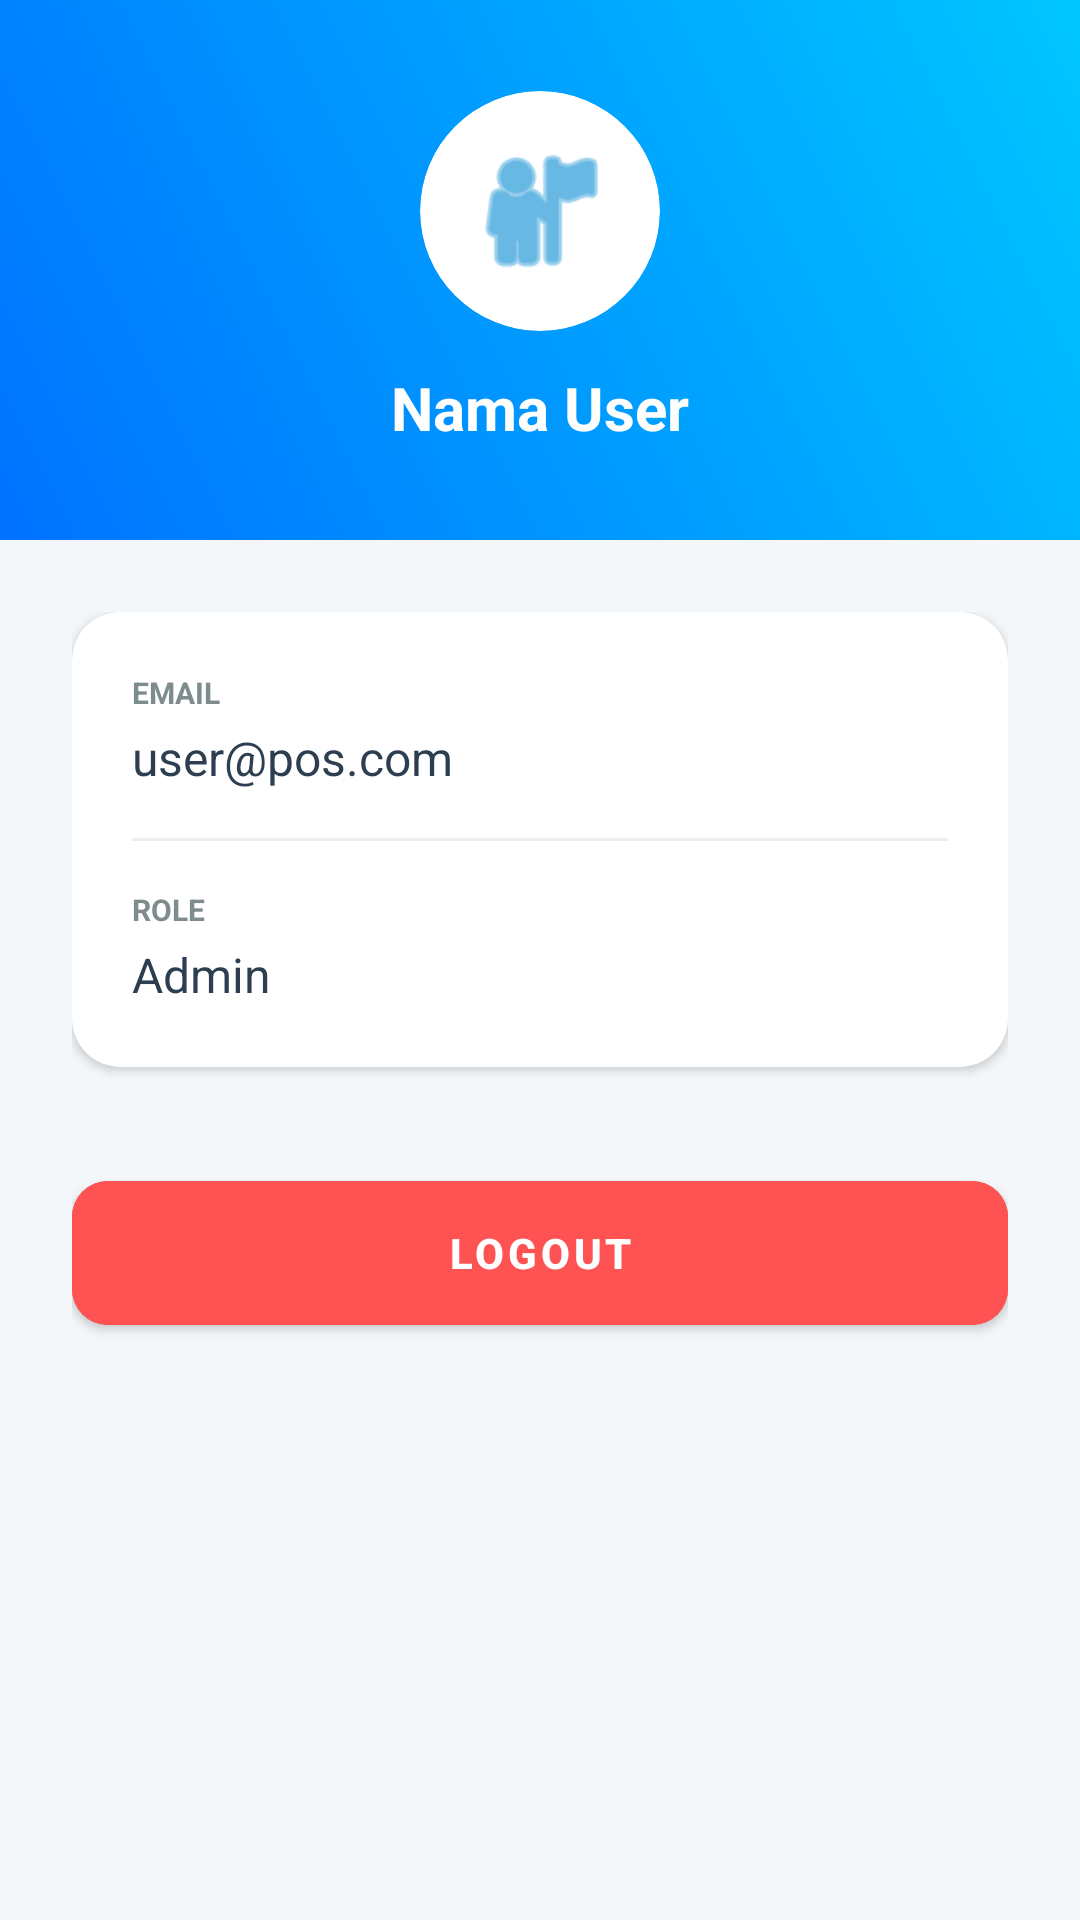

Icons on this 1080x1920 Android screen, each with its box as (x1, y1, x2, y2):
myplaces: (420, 91, 660, 331)
